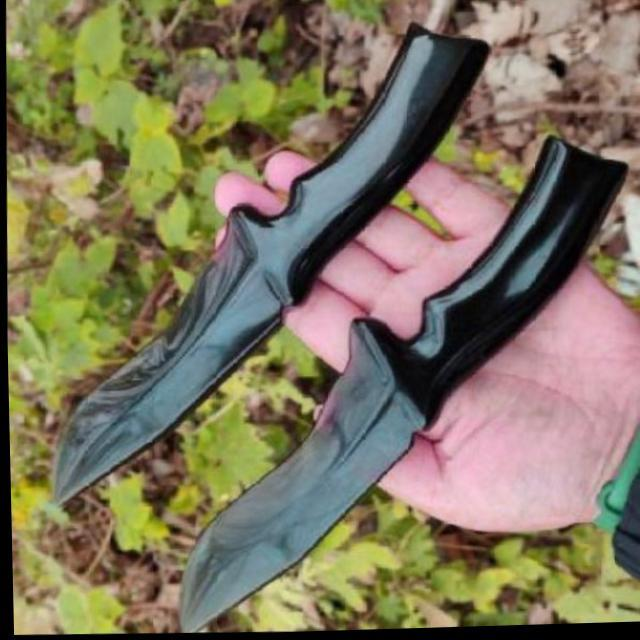weapon: (162, 126, 636, 636), (39, 14, 498, 518)
